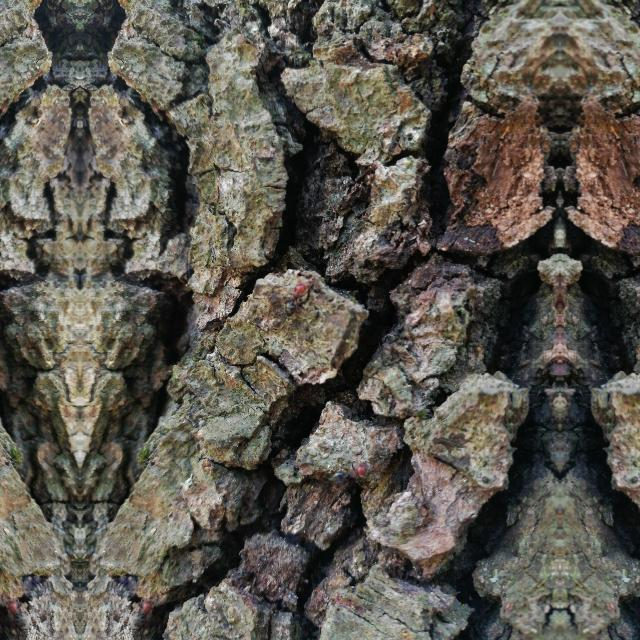Crematogaster: (329, 457, 367, 491), (278, 279, 306, 319), (134, 597, 156, 639), (4, 597, 26, 639)
